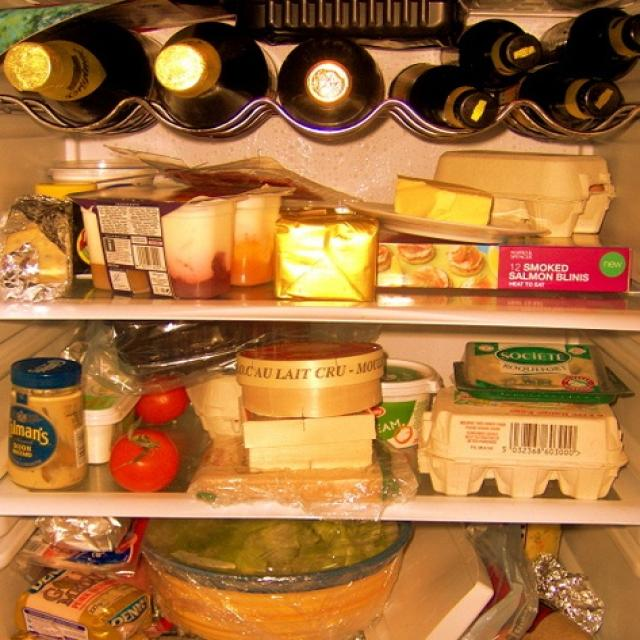bottle: (153, 17, 273, 141), (2, 25, 150, 125), (273, 31, 392, 145), (389, 51, 492, 137), (537, 6, 640, 83), (514, 66, 629, 132), (457, 18, 544, 84)
